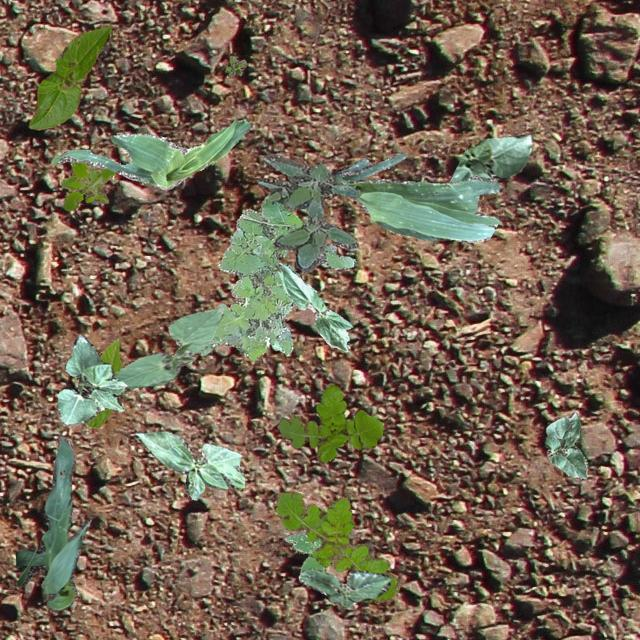crop: (326, 150, 498, 242), (48, 116, 250, 188), (15, 436, 89, 610), (110, 308, 222, 387), (28, 24, 110, 128), (134, 431, 244, 498), (274, 262, 352, 351), (56, 334, 126, 424), (448, 132, 532, 180), (298, 568, 390, 606), (84, 338, 120, 428), (544, 412, 586, 478)
weed: (198, 194, 354, 360), (274, 491, 399, 602), (256, 154, 360, 272), (276, 384, 382, 461), (60, 160, 114, 210), (284, 530, 324, 572), (226, 54, 246, 76)
